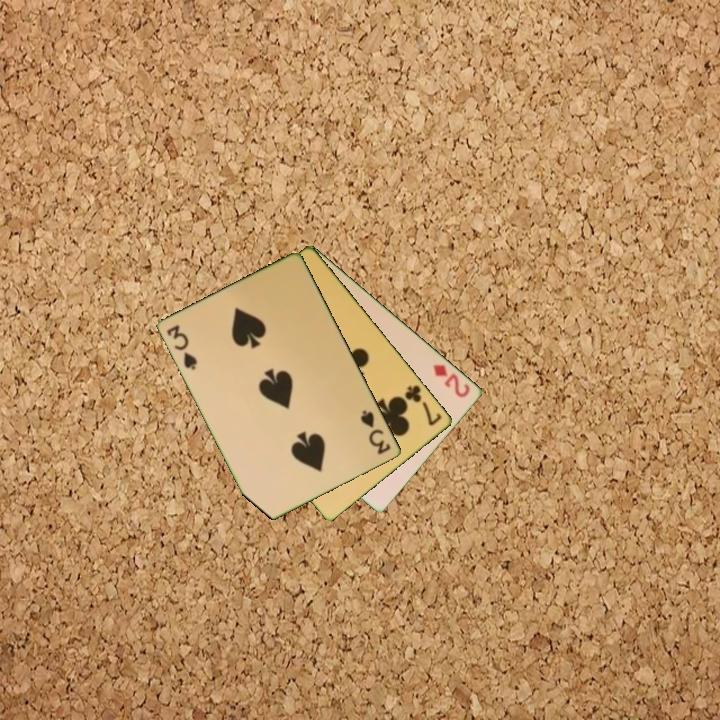2d: (430, 361, 473, 401)
3s: (163, 321, 201, 373), (357, 406, 394, 457)
7c: (402, 381, 445, 429)
